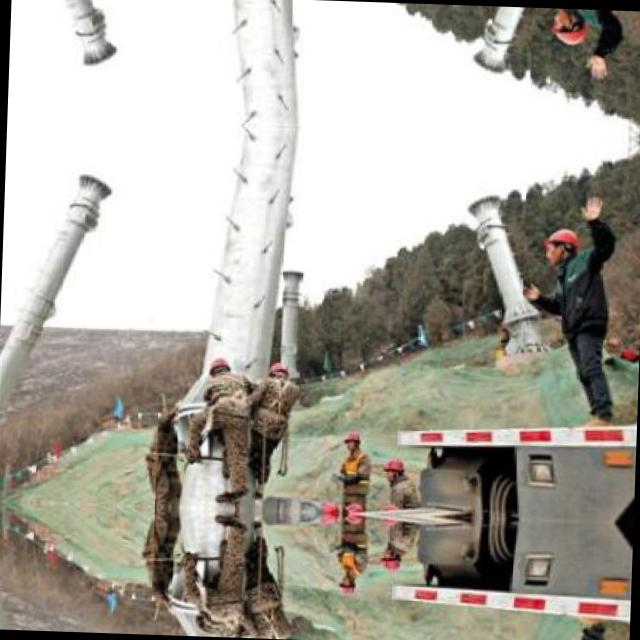helmet: (550, 10, 588, 48), (543, 225, 580, 262), (376, 544, 402, 571), (207, 354, 229, 384), (380, 457, 404, 484), (266, 359, 290, 383), (340, 428, 360, 452), (335, 574, 354, 598)
